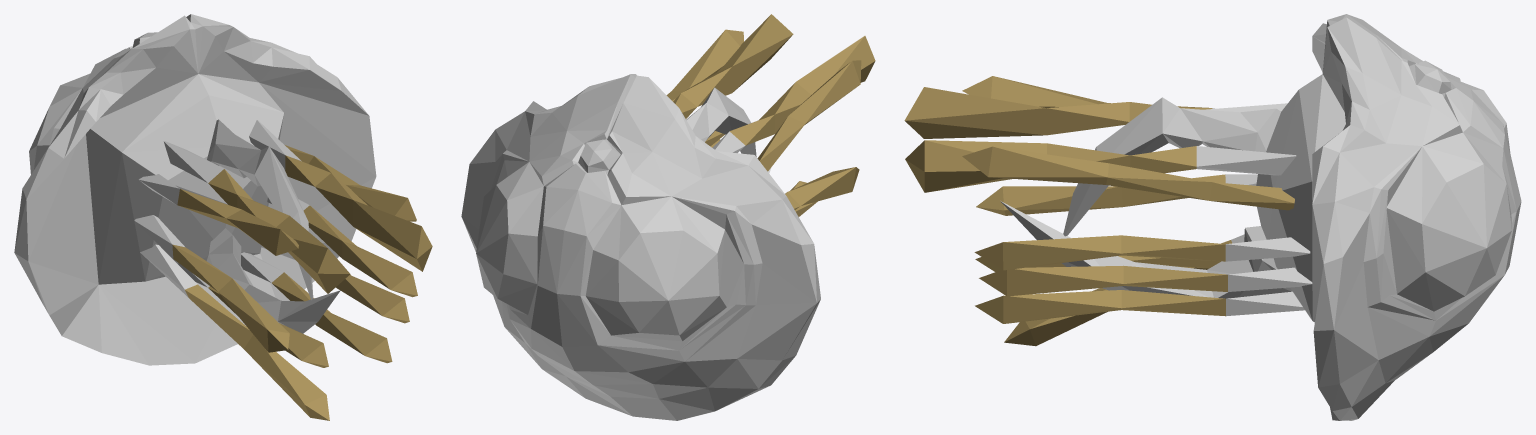
The model's file is BR_Tentacruel.obj.
The picture shows the model from 3 angles, left to right: view 1: azimuth 30°, elevation 25°; view 2: azimuth 150°, elevation 25°; view 3: azimuth 270°, elevation 25°; orthographic projection. The views are drawn at different scales.
Visible parts, largest first — view 1: dokukurage; view 2: dokukurage; view 3: dokukurage.
Boxes of the visible parts, left/top/right/bottom form: dokukurage: left=14, top=14, right=432, bottom=420; dokukurage: left=461, top=14, right=875, bottom=420; dokukurage: left=904, top=14, right=1521, bottom=420.
Bounding box in the file's own units: 13.97 × 12.81 × 18.41.
